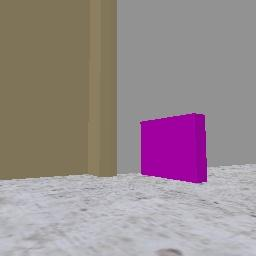mov: (142, 114, 206, 182)
